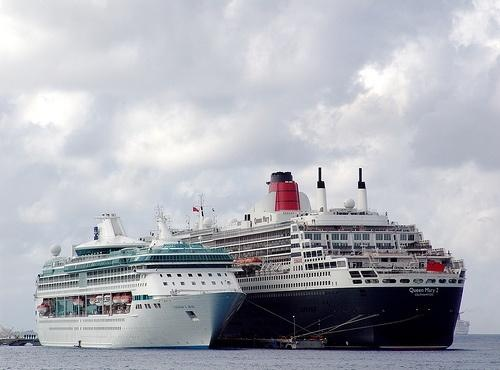boat: (73, 170, 470, 357), (32, 245, 246, 351)
